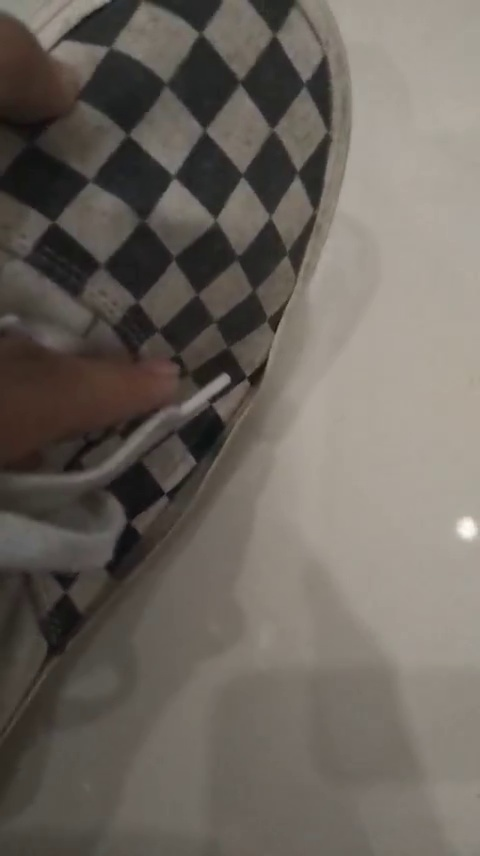bonding: (71, 379, 267, 627)
